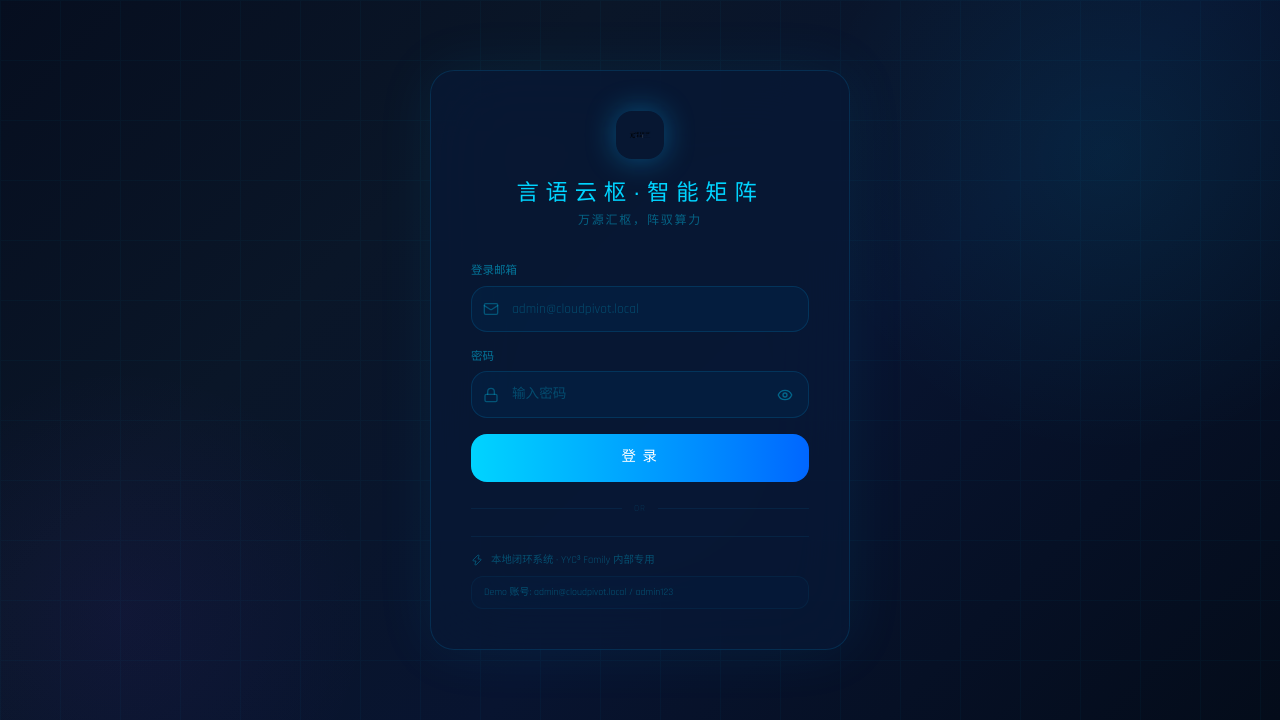
Login Component › should show network error on exception
Type "test@example.com" into the field with test id "login-email-input" at (640, 309), box [471, 286, 809, 332]
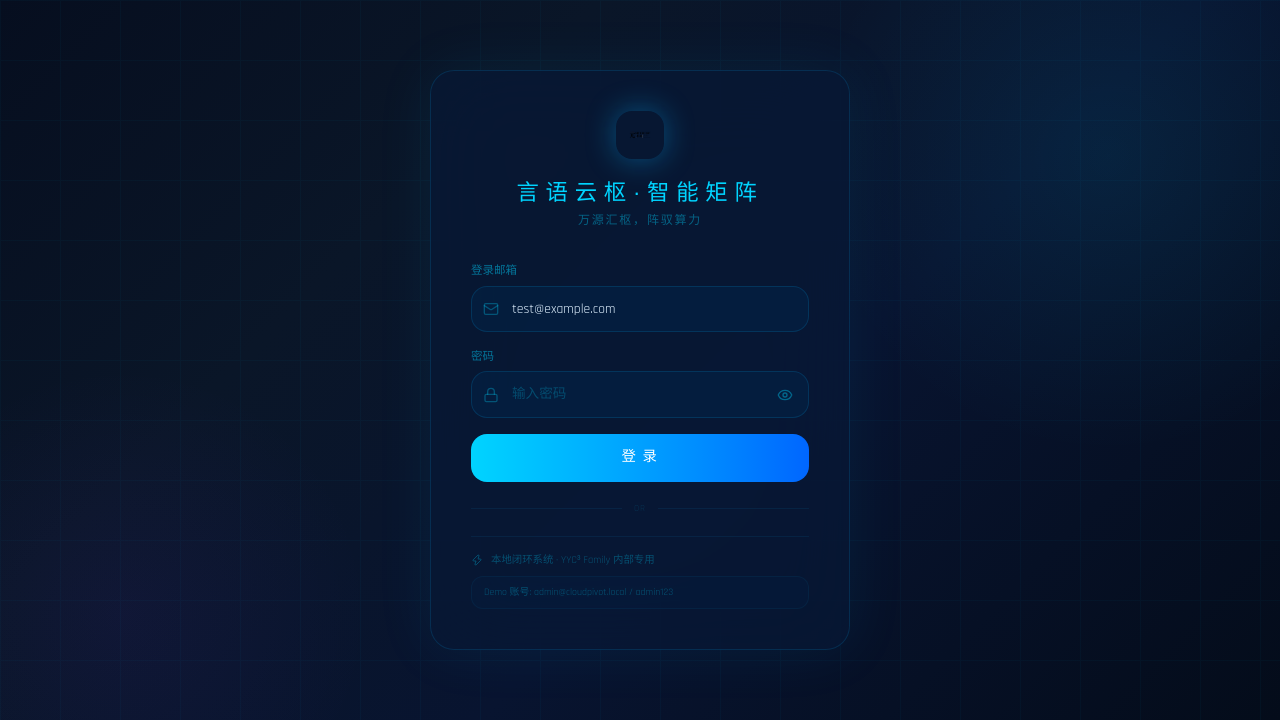
Type "password123" into the password field with test id "login-password-input" at (640, 395), box [471, 371, 809, 418]
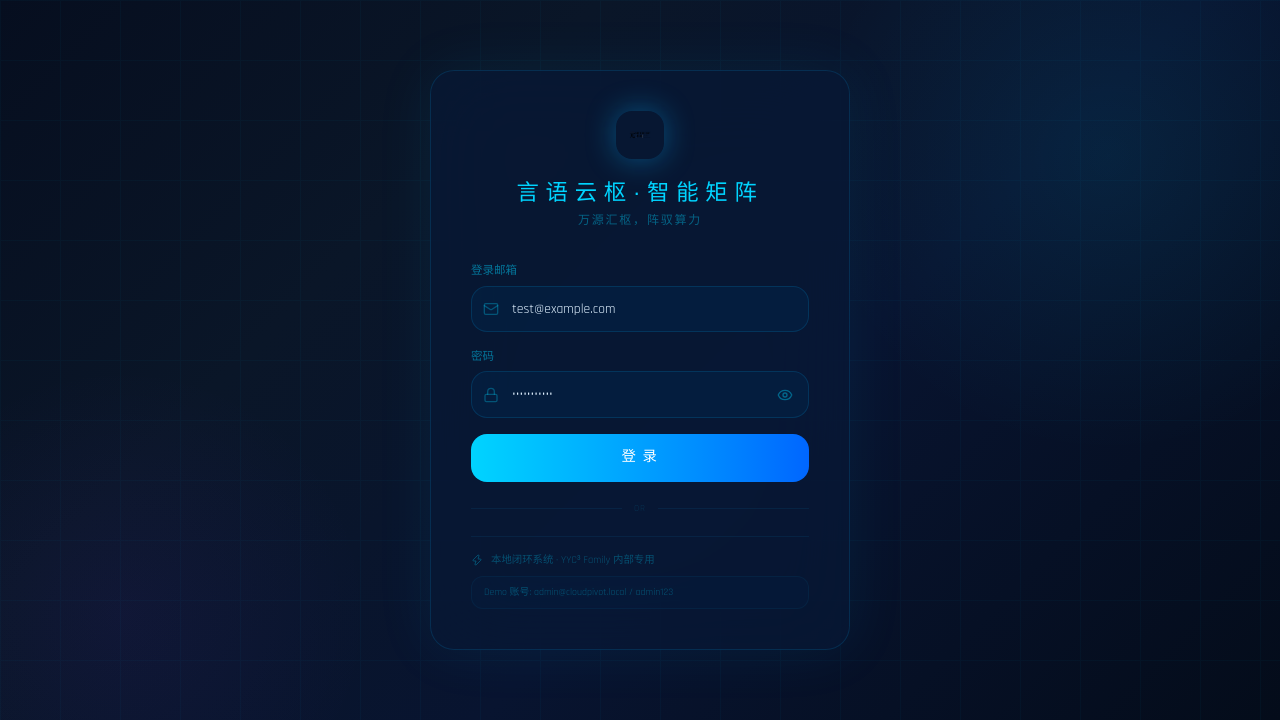
Click the button with test id "login-submit-button" at (640, 458), box [471, 434, 809, 482]
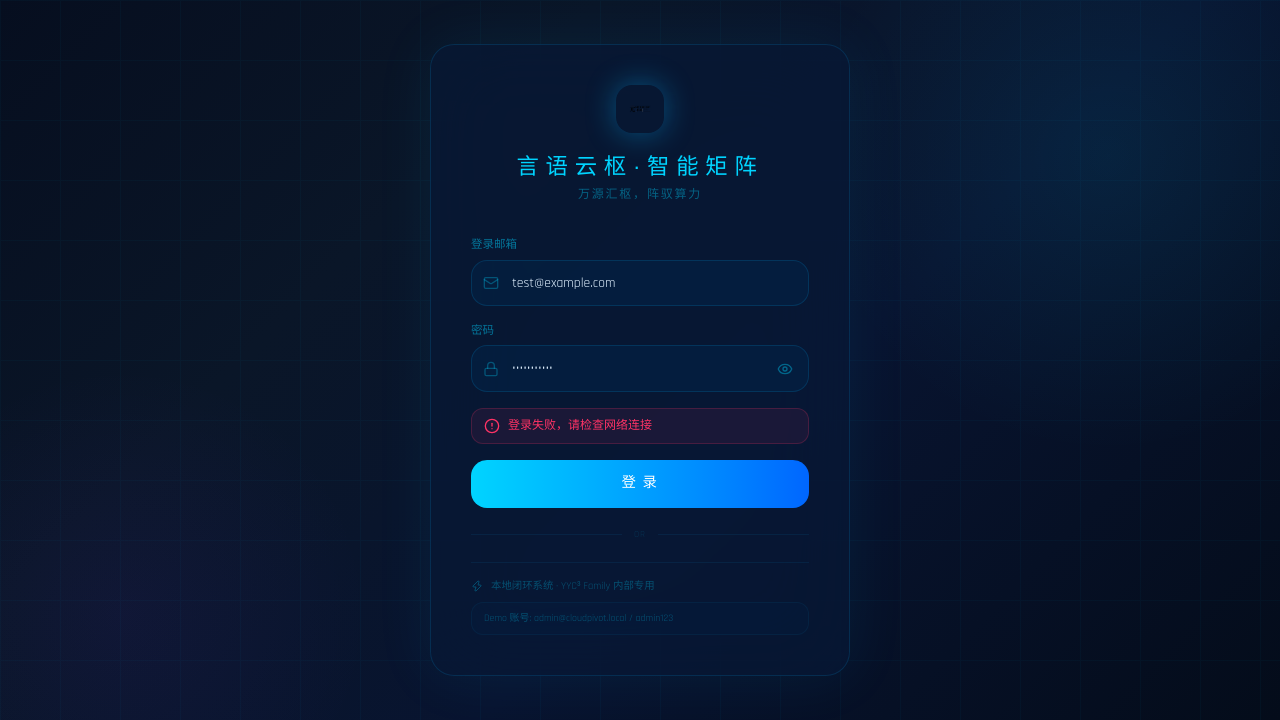
expect the text "登录失败，请检查网络连接" is shown: met, box [508, 417, 652, 435]
